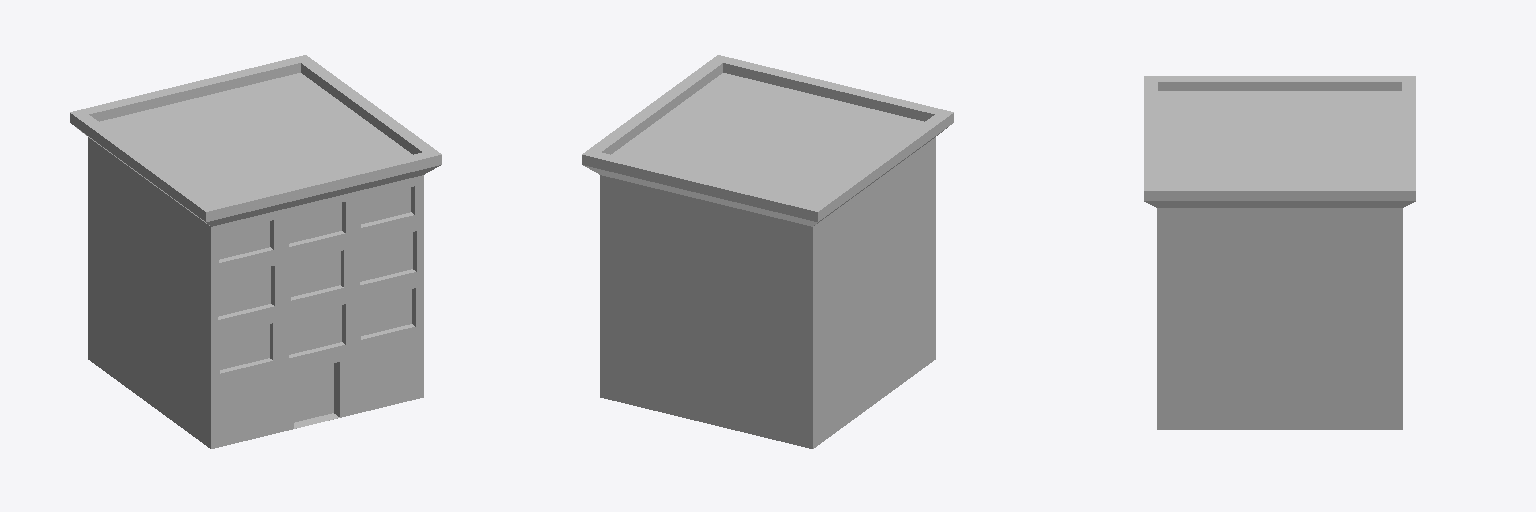
The model's file is edificio01.obj.
3 renders of one model, left to right at view 1: azimuth 30°, elevation 25°; view 2: azimuth 150°, elevation 25°; view 3: azimuth 270°, elevation 25°, orthographic.
Visible parts, largest first — view 1: Edificio_3; view 2: Edificio_3; view 3: Edificio_3.
Part boxes in pixels (left/top/right/bottom): Edificio_3: left=70, top=55, right=441, bottom=448; Edificio_3: left=582, top=55, right=953, bottom=448; Edificio_3: left=1144, top=76, right=1415, bottom=429.
Bounding box in the file's own units: 10.83 × 10.74 × 10.83.